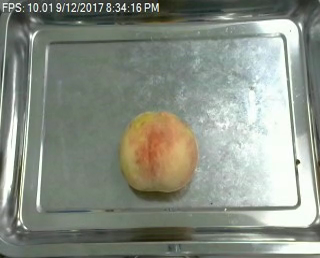Peach: (119, 110, 198, 193)
